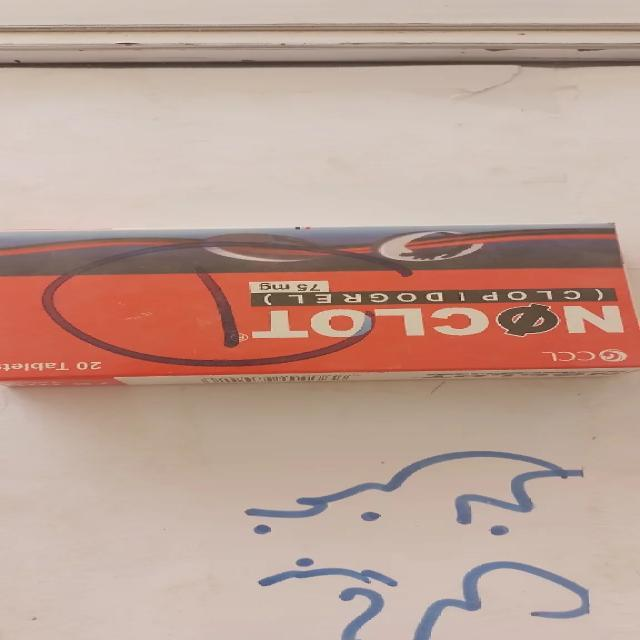drug-name: (247, 306, 628, 340)
